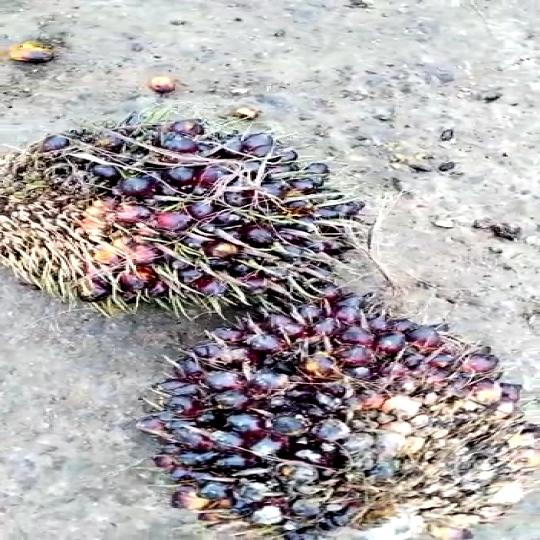kurang masak: (104, 295, 540, 539), (0, 115, 402, 320)
